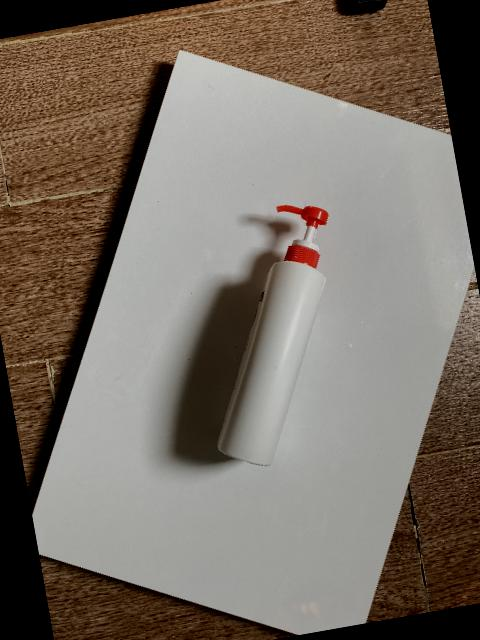life-buoy: (215, 203, 327, 464)
